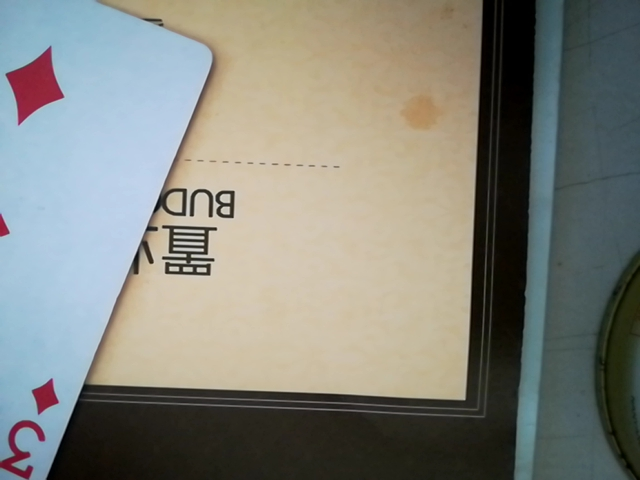fk 3: (0, 0, 215, 480)
